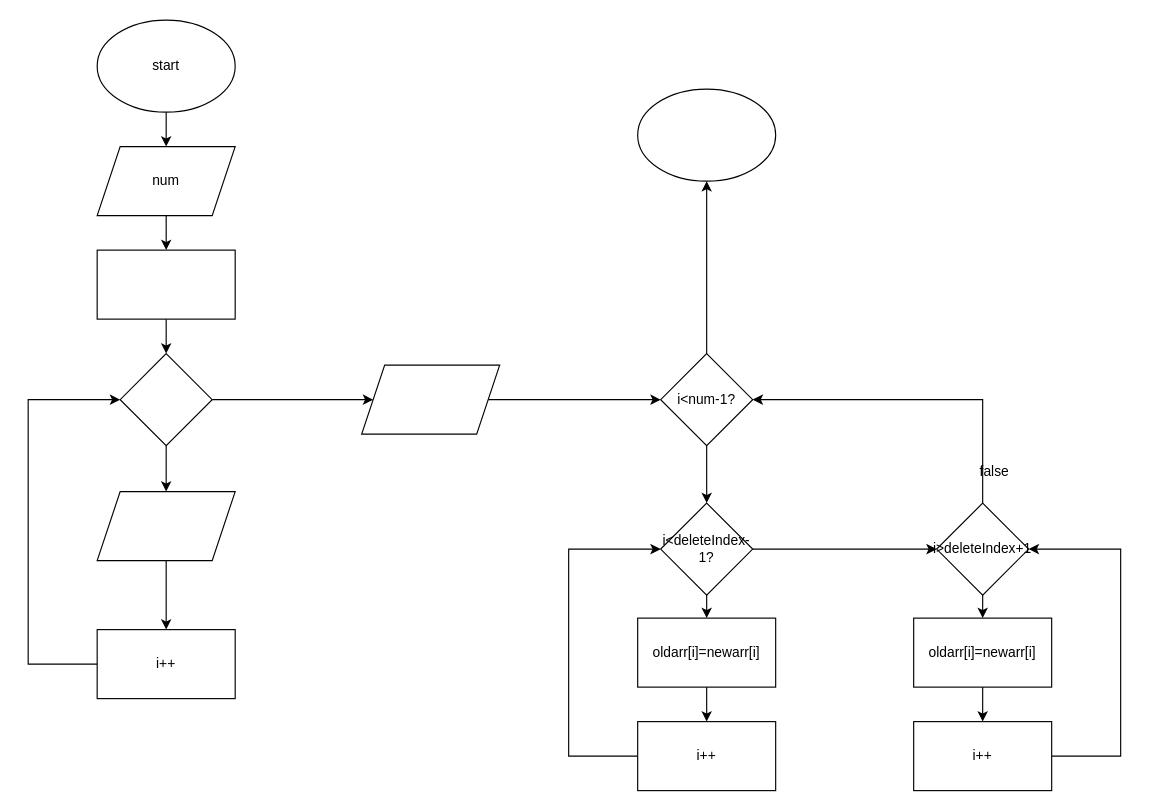
This 1150x811 diagram has some shape labels left out. The centre of each missing label's shape, as x and y in pixels:
deleteIndex: pixel 430 399
end: pixel 706 134
i<num?: pixel 165 399
nhap gia tri: pixel 165 525
oldarr[num] i=0 newarr[num-1]: pixel 165 284
